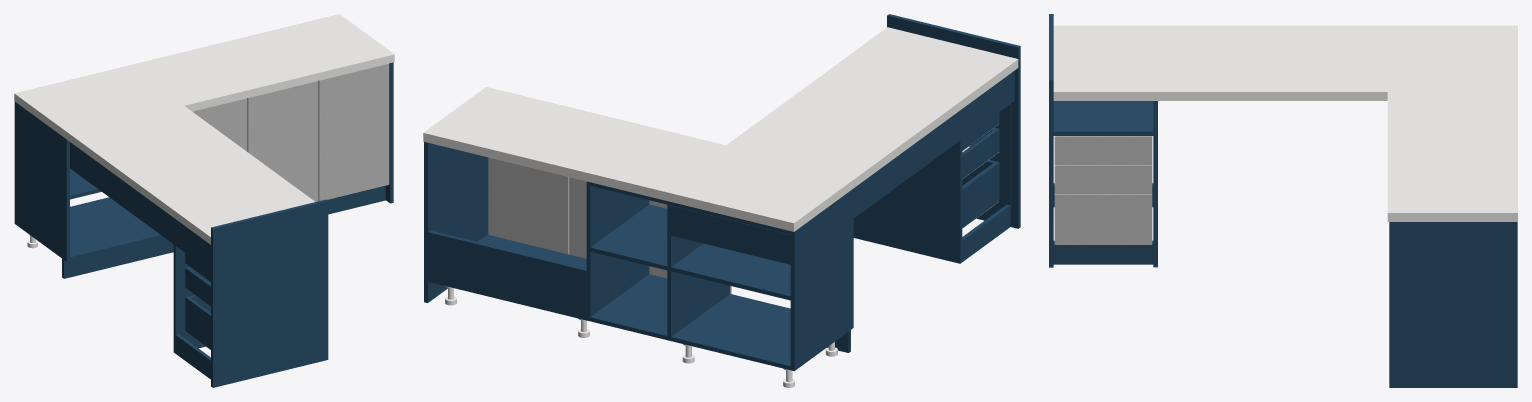
3 renders of one model, left to right at view 1: azimuth 30°, elevation 25°; view 2: azimuth 150°, elevation 25°; view 3: azimuth 270°, elevation 25°, orthographic. The views are drawn at different scales.
Visible parts, largest first — view 1: Стіл; view 2: Стіл; view 3: Стіл.
Part boxes in pixels (x1,y1,x2,y2): Стіл: (14,14,394,387); Стіл: (423,14,1020,387); Стіл: (1049,14,1517,387).
Size of the model in its own units: 1.7 by 0.8 by 1.8.
5 materials, 4 textured.
